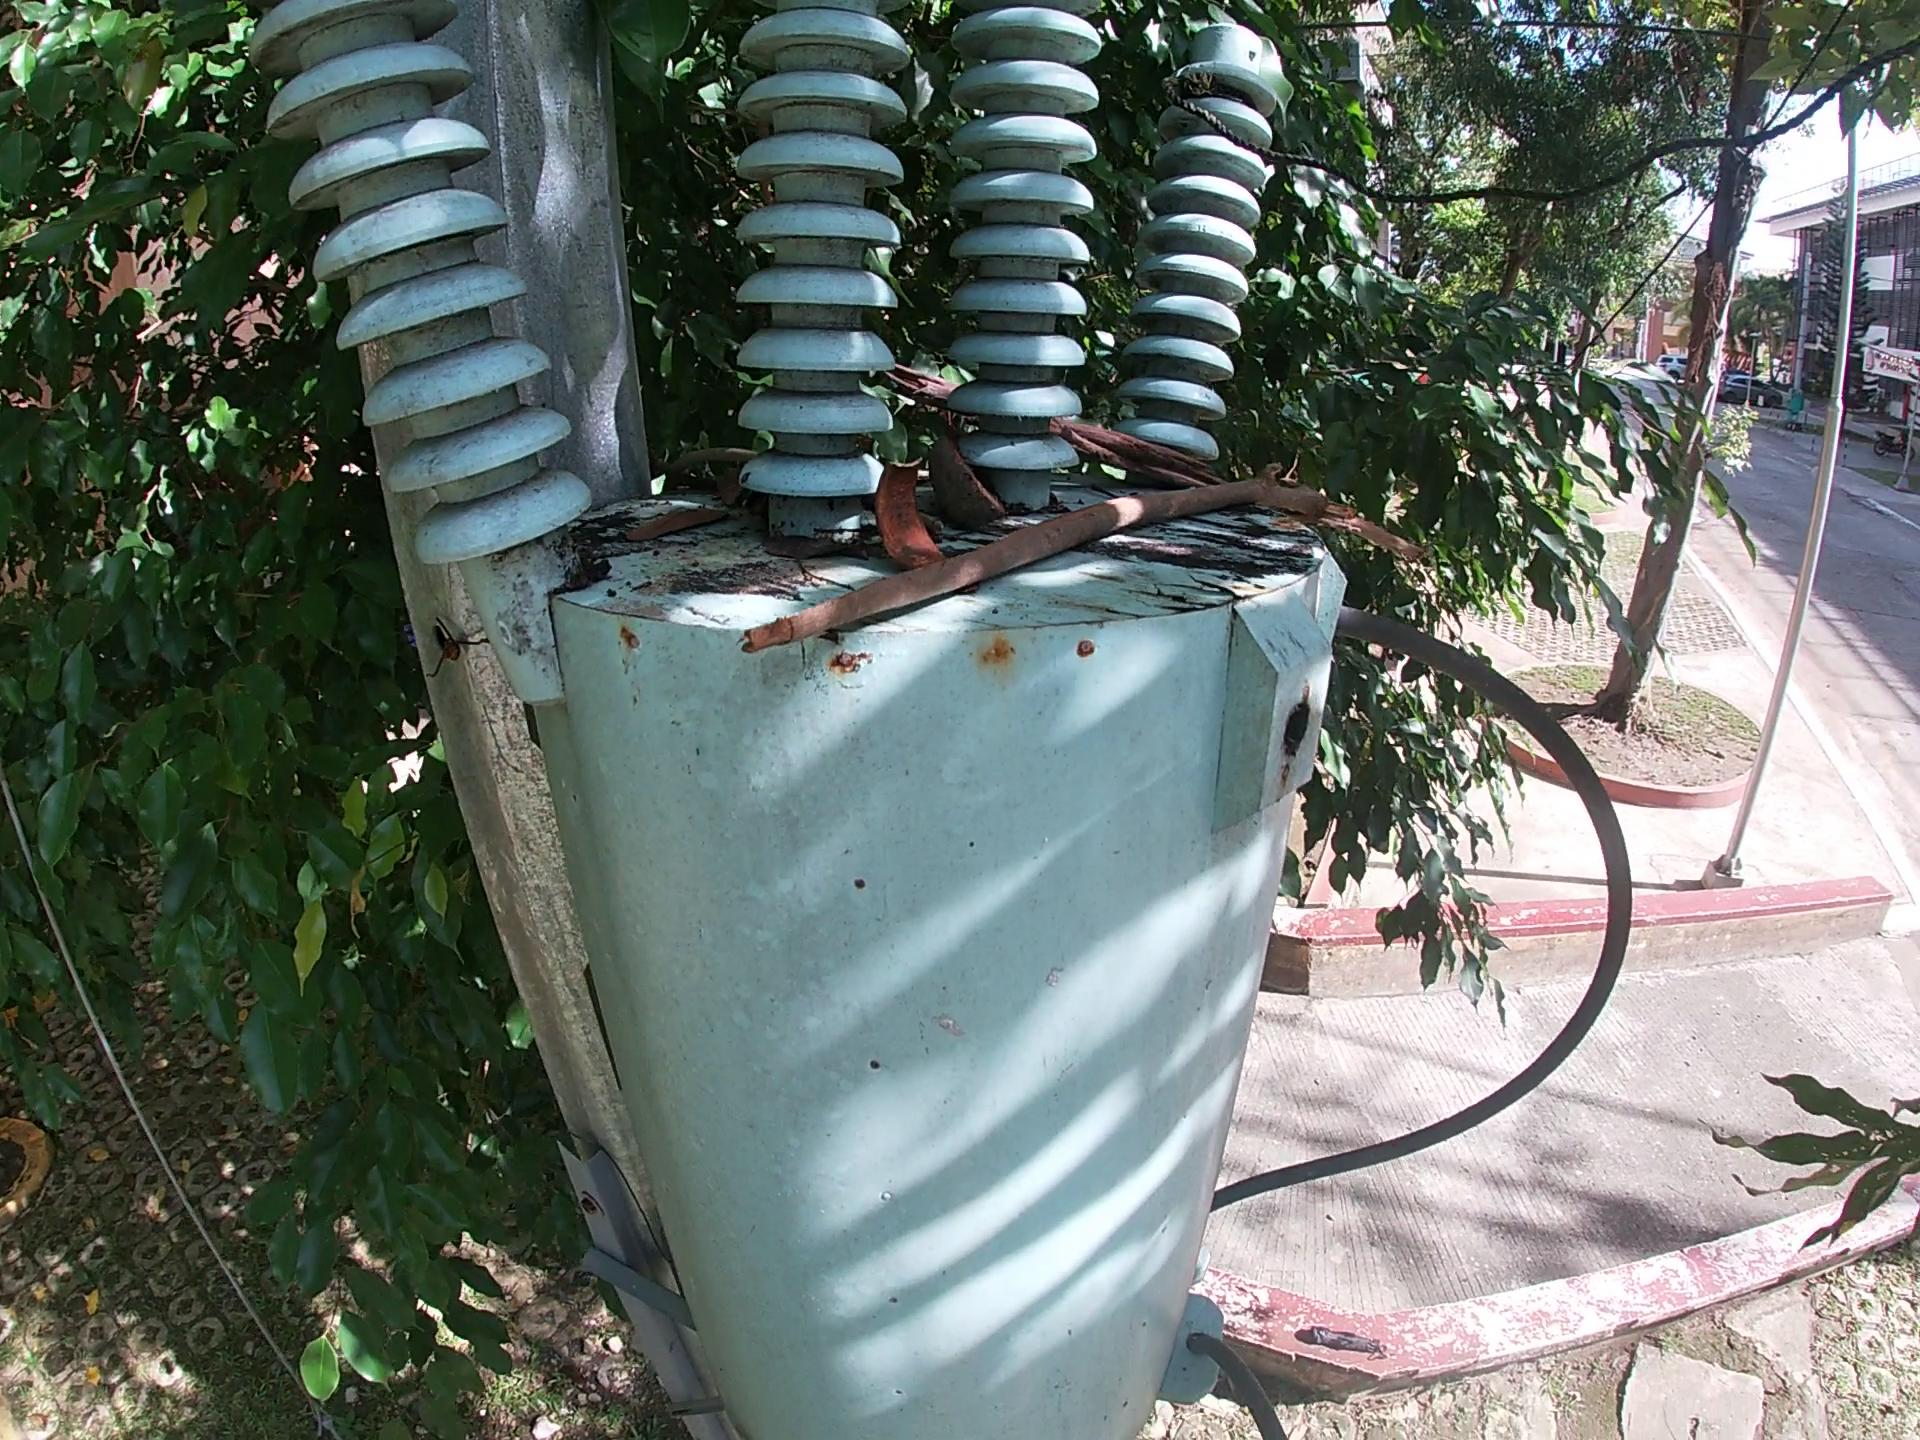leaf: (612, 495, 732, 545)
mahogany fruit: (866, 458, 949, 576), (927, 436, 1011, 525)
tree branch: (732, 470, 1429, 664), (880, 368, 1240, 495), (646, 445, 759, 490)
